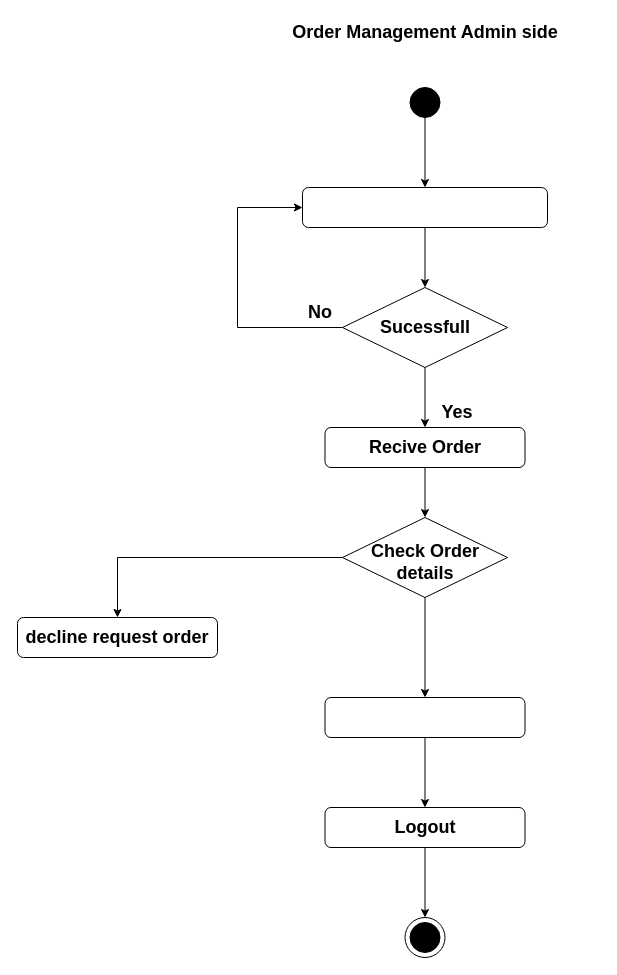
Some shapes in this 617 by 975 pixel diagram are drawn without their labels. The shapes that lost their labels are listed below. From the top down, each one's centre as x and y in pixels, then its label:
At point (425, 207): "Enter Credential".
At point (424, 717): "Accept request order".
